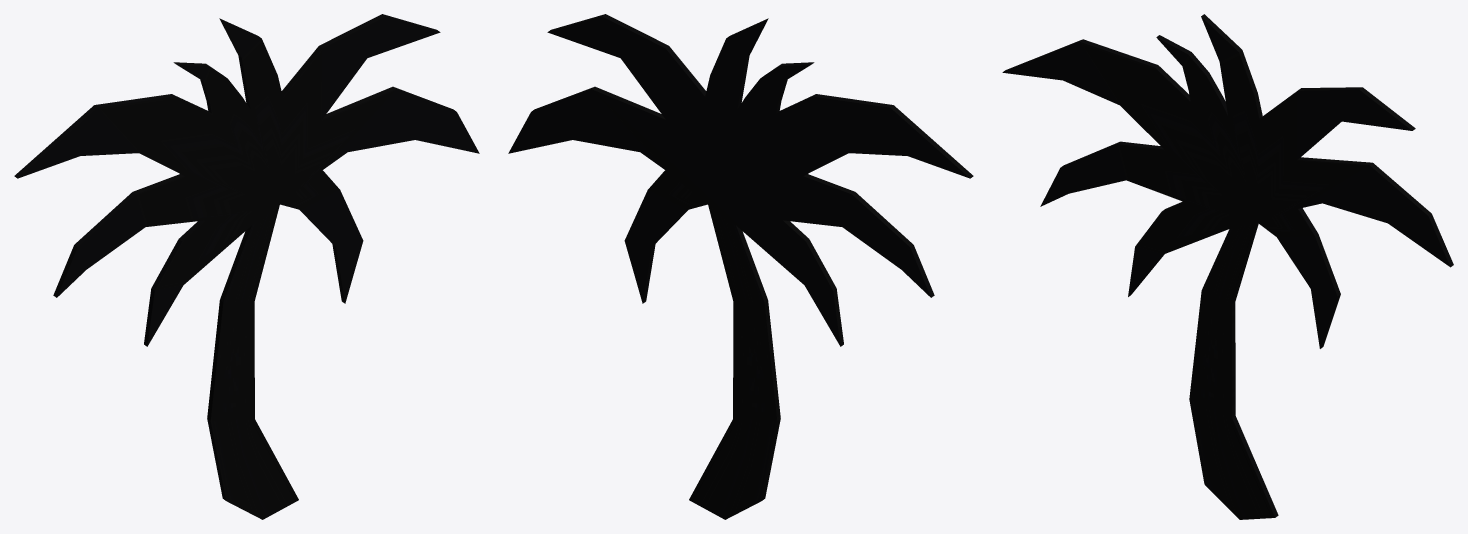
File: palmTree.fbx
3 views of the same model, side by side, from view 1: azimuth 30°, elevation 25°; view 2: azimuth 150°, elevation 25°; view 3: azimuth 330°, elevation 25° (orthographic). The views are drawn at different scales.
Visible parts, largest first — view 1: Plane; view 2: Plane; view 3: Plane.
Part boxes in pixels (left/top/right/bottom): Plane: left=14, top=14, right=479, bottom=519; Plane: left=508, top=14, right=973, bottom=519; Plane: left=1002, top=14, right=1453, bottom=519.
Size of the model in its own units: 446 by 470 by 5.88.
Materials: 1 (1 with a texture image).
